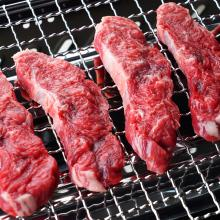beef: (4, 16, 43, 66), (32, 5, 62, 60), (54, 1, 76, 49)
